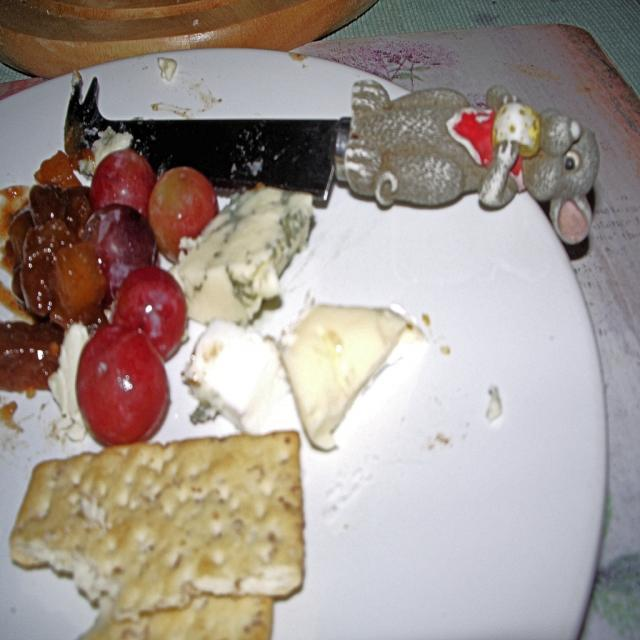Cheese: (277, 299, 432, 449), (167, 180, 314, 326), (184, 311, 288, 435)
